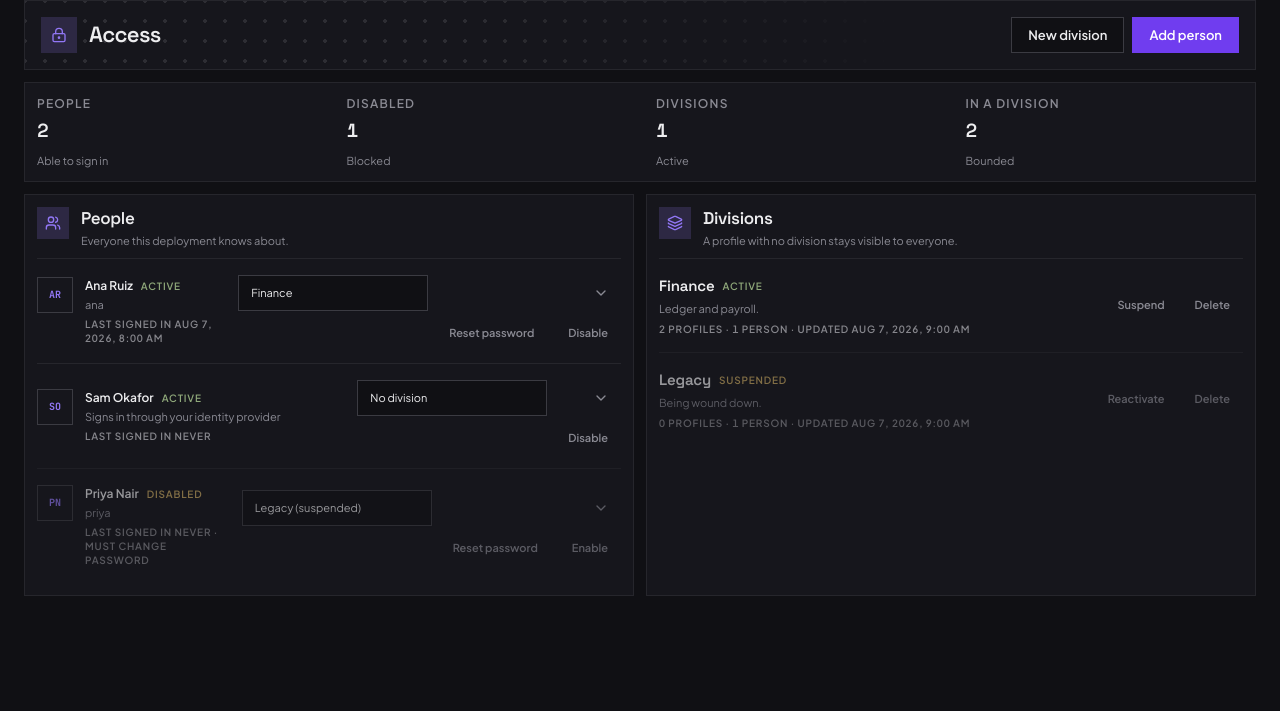
Scenario: people and divisions on one screen › shows a new password once and says that is what it is doing
This screenshot has width=1280, height=711.
Expected: the text "Ana Ruiz" is shown, [85,277,133,295]
Click the button "Add person" at (1186, 35), box [1132,17,1239,53]
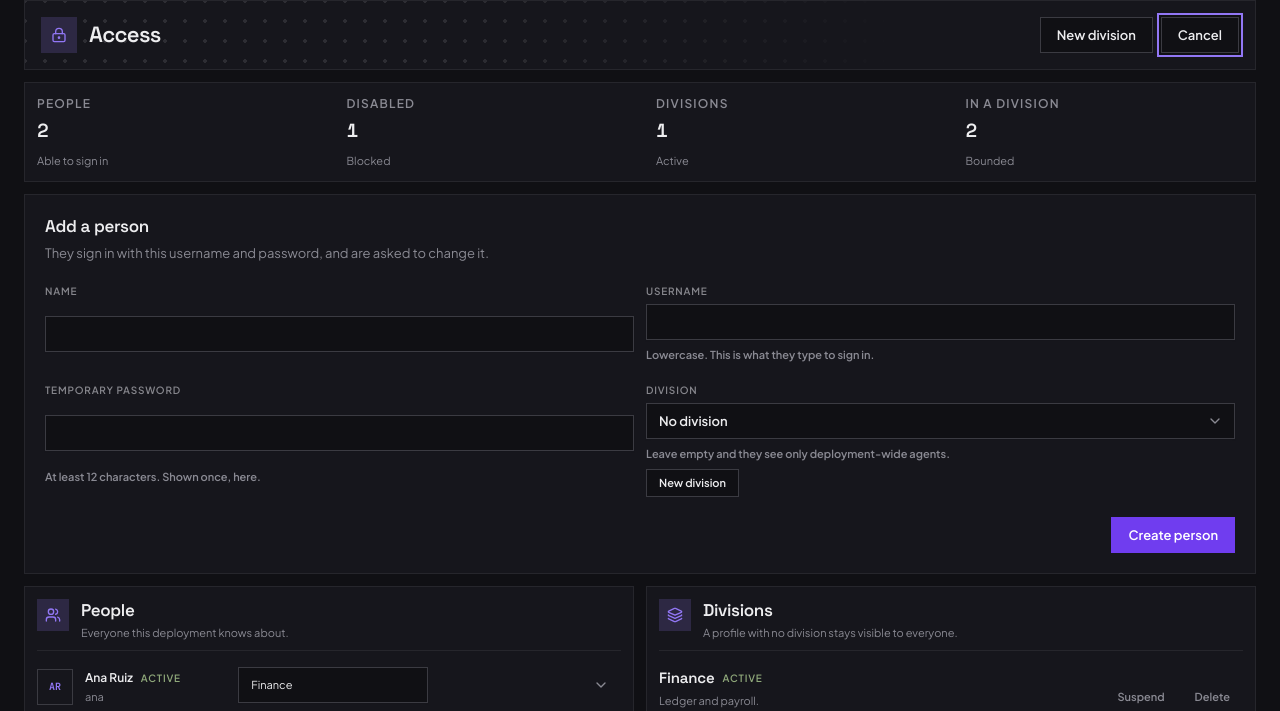
Expected: the text "At least 12 characters. Shown once, here." is shown, [45,470,261,483]
Type "Ravi Shah" into the field labelled "Name" at (340, 334), box [45,316,634,352]
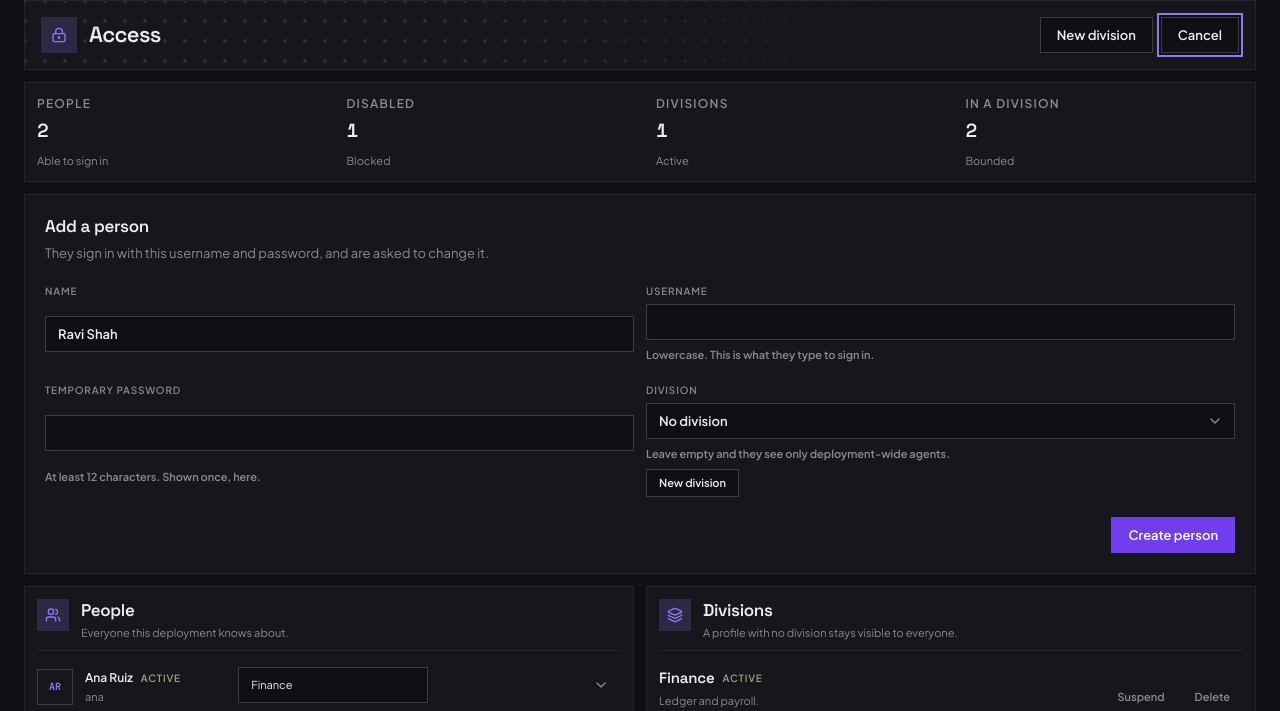
Type "ravi" into the field labelled "Username Lowercase. This is what they type to sign in." at (940, 322), box [646,304,1235,340]
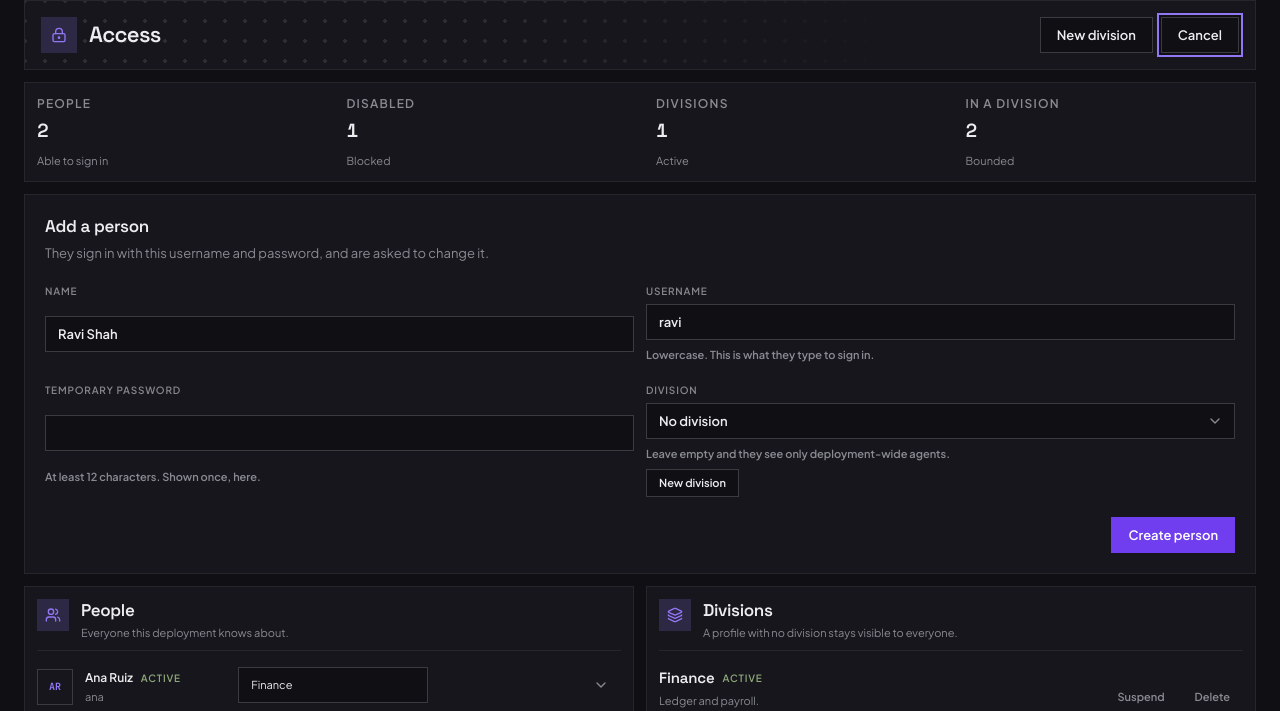
Type "correct-horse-battery" into the field labelled "Temporary password At least 12 characters. Shown once, here." at (340, 433), box [45,415,634,451]
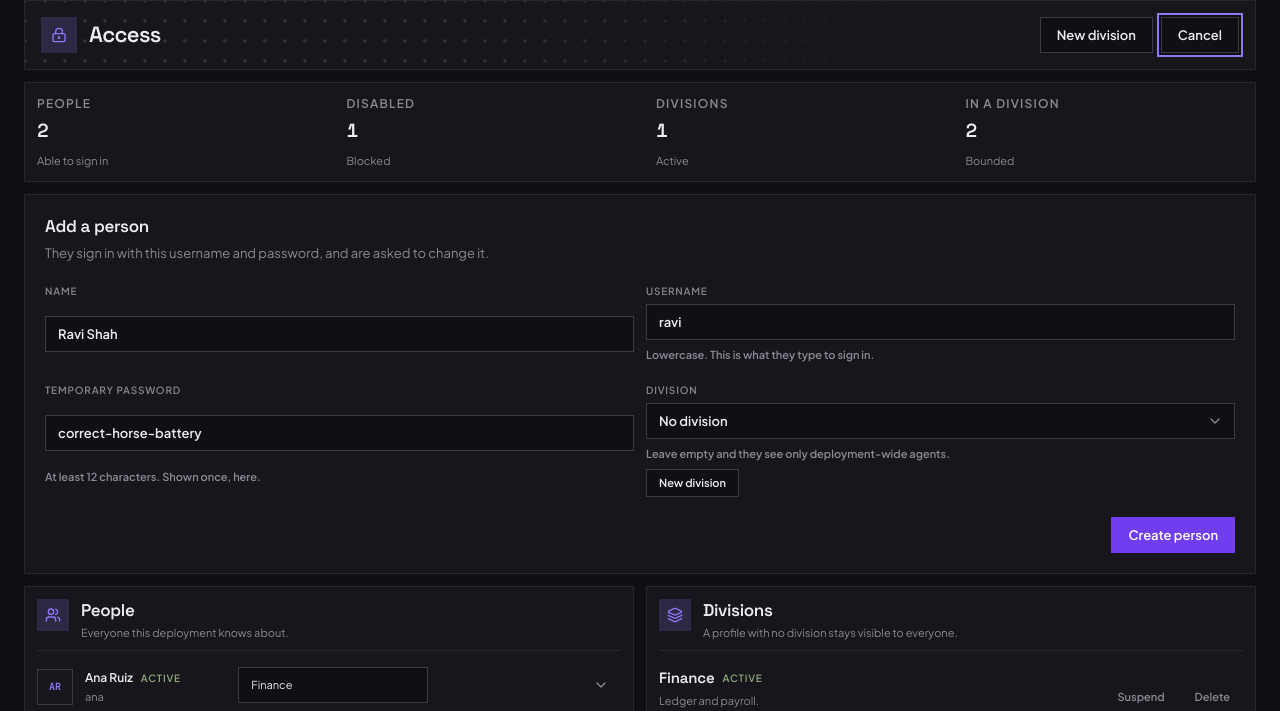
Click the button "Create person" at (1173, 535), box [1111,517,1235,553]
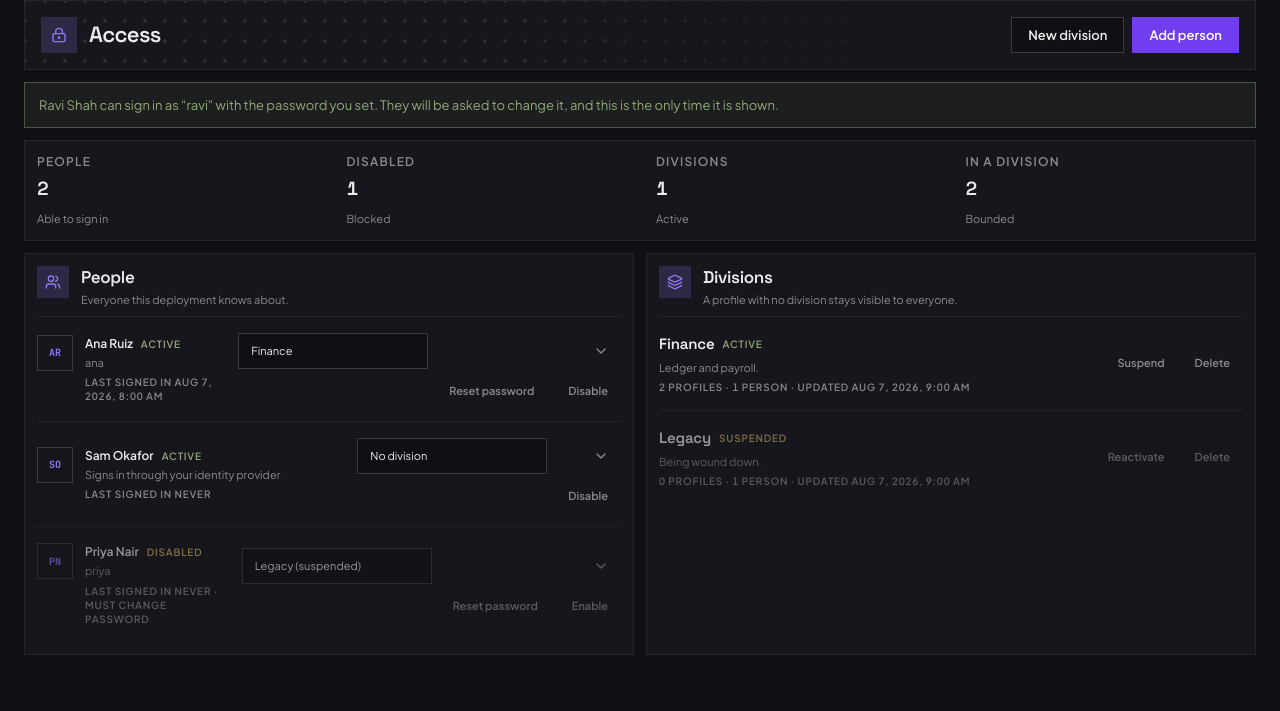
Expected: the text "this is the only time it is shown" is shown, [39,97,779,113]
